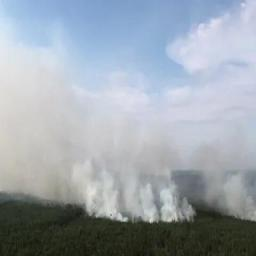Low smoke: (0, 93, 256, 228)
